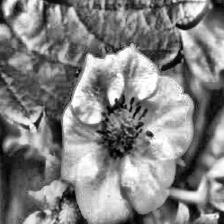Blossom Blight: (94, 90, 154, 167)
